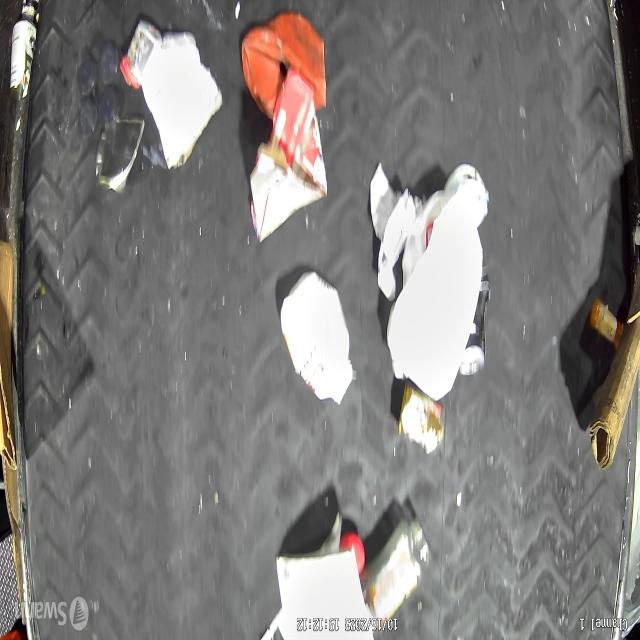can: (93, 113, 147, 198), (456, 267, 492, 379), (8, 18, 38, 102)
milk_jug: (385, 178, 489, 402)
